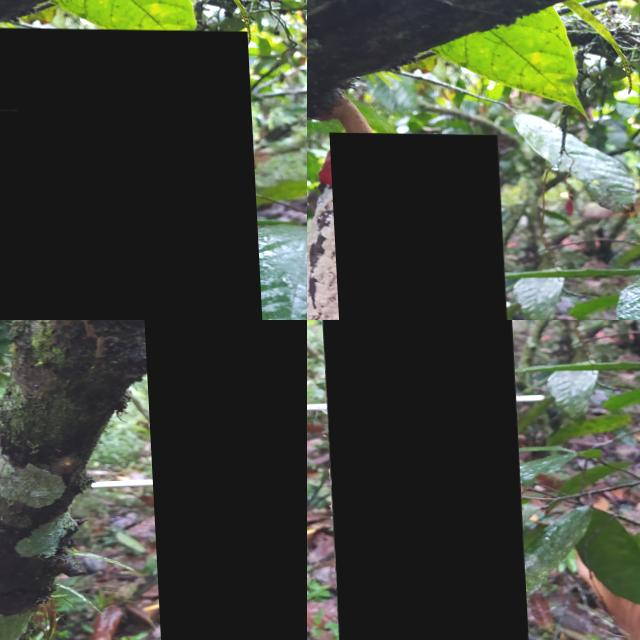Monilia: (315, 320, 522, 640), (327, 131, 507, 320)
Sana: (0, 27, 263, 320), (141, 320, 307, 640)
